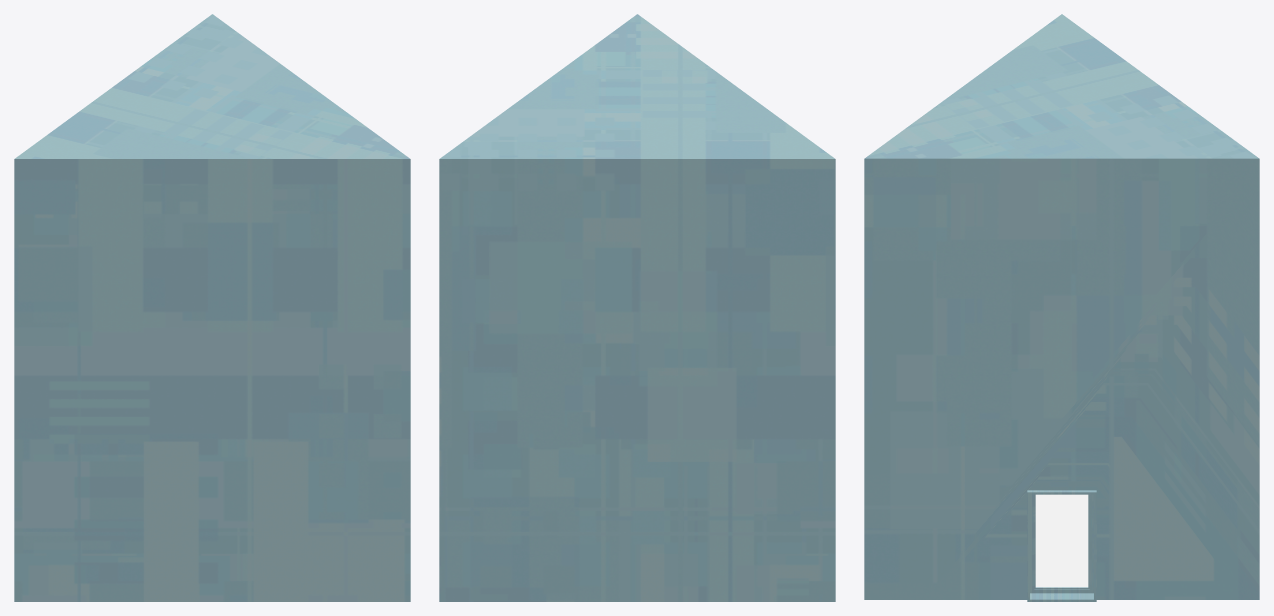
Rendered from plain building no front.fbx.
3 views of the same model, side by side, from view 1: azimuth 30°, elevation 25°; view 2: azimuth 150°, elevation 25°; view 3: azimuth 270°, elevation 25° (orthographic).
Parts seen in each view (by area): view 1: main; view 2: main; view 3: main, door_glow, door_frame.
Part boxes in pixels (left/top/right/bottom): main: left=14, top=14, right=410, bottom=601; main: left=439, top=14, right=835, bottom=601; main: left=864, top=14, right=1259, bottom=599; door_glow: left=1035, top=494, right=1088, bottom=587; door_frame: left=1027, top=490, right=1096, bottom=601.
Size of the model in its own units: 2.69 by 3.77 by 3.06.
2 materials, 1 textured.
